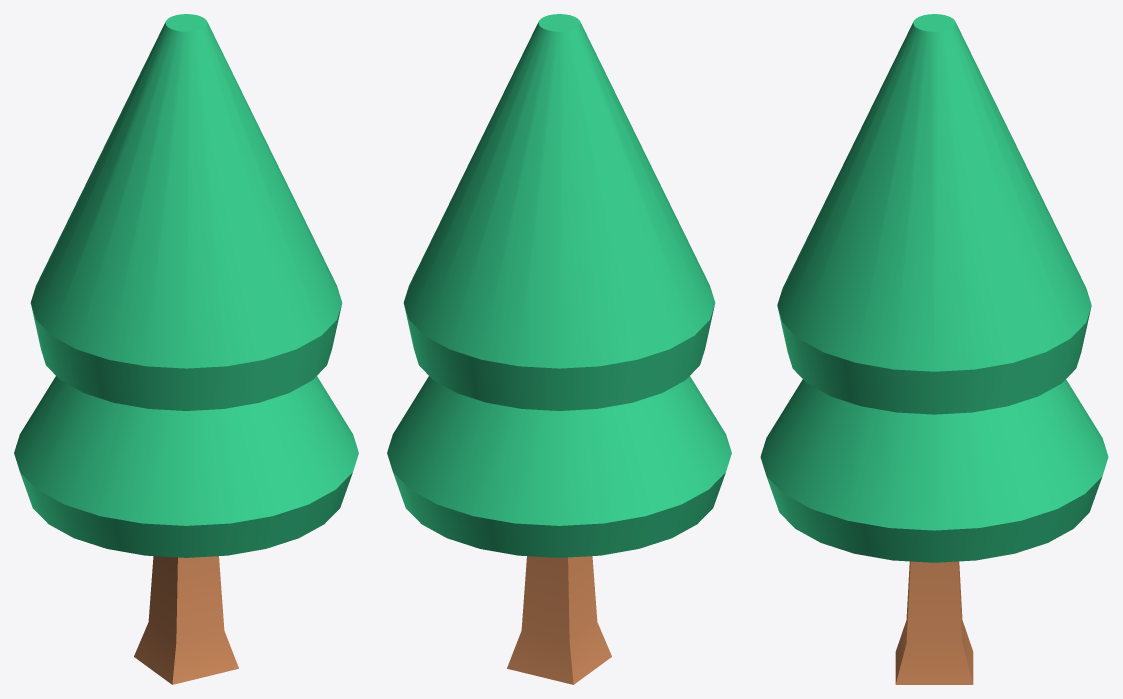
File: treePine.glb
3 views of the same model, side by side, from view 1: azimuth 30°, elevation 25°; view 2: azimuth 150°, elevation 25°; view 3: azimuth 270°, elevation 25° (orthographic).
Visible parts, largest first — view 1: treePine; view 2: treePine; view 3: treePine.
Part boxes in pixels (<box>): treePine: <box>14,14,358,684</box>; treePine: <box>387,14,731,684</box>; treePine: <box>760,14,1108,684</box>.
Bounding box in the file's own units: 0.9485 × 1.94 × 0.9485.
